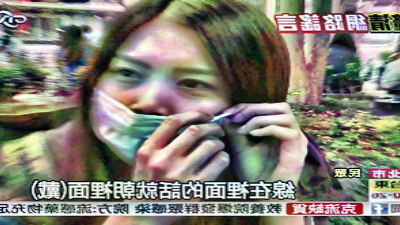mask_weared_incorrect: (87, 47, 228, 169)
